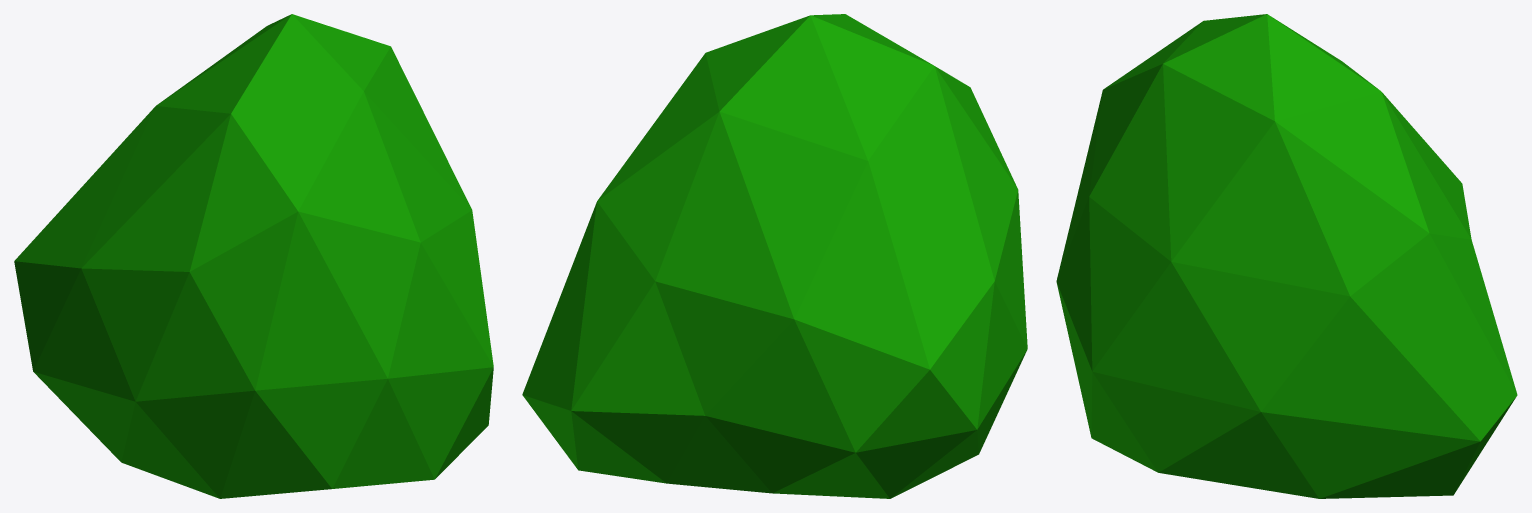
The model's file is Arbusto1.fbx.
The picture shows the model from 3 angles, left to right: view 1: azimuth 30°, elevation 25°; view 2: azimuth 150°, elevation 25°; view 3: azimuth 270°, elevation 25°; orthographic projection. The views are drawn at different scales.
Parts seen in each view (by area): view 1: Arbusto1; view 2: Arbusto1; view 3: Arbusto1.
Part boxes in pixels (bbox=[...]): Arbusto1: bbox=[14, 14, 493, 498]; Arbusto1: bbox=[522, 14, 1027, 498]; Arbusto1: bbox=[1056, 14, 1517, 498].
Size of the model in its own units: 79.91 by 82.93 by 82.63.
